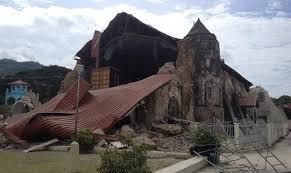sagging_roof: (7, 77, 200, 135)
